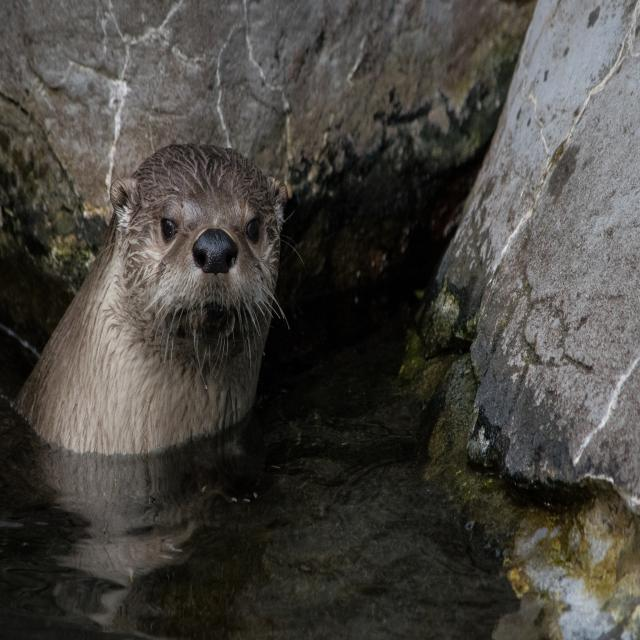otter: (21, 147, 279, 446)
